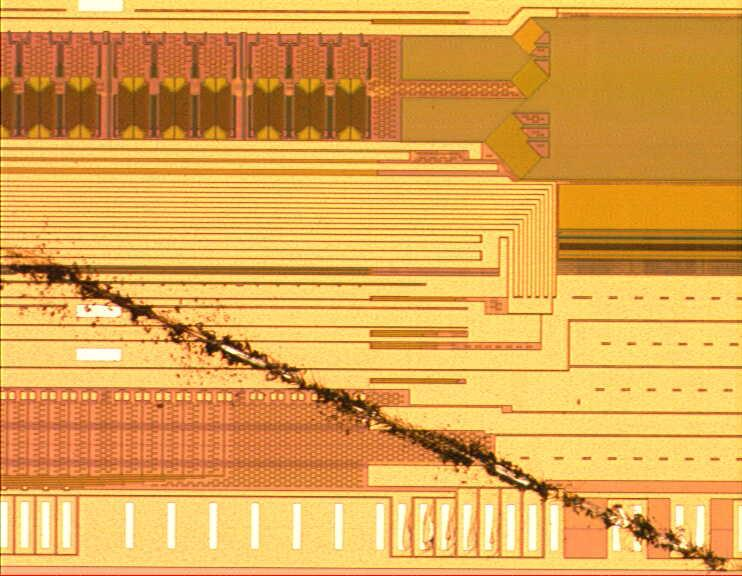SCRATCH: (1, 217, 742, 575)
